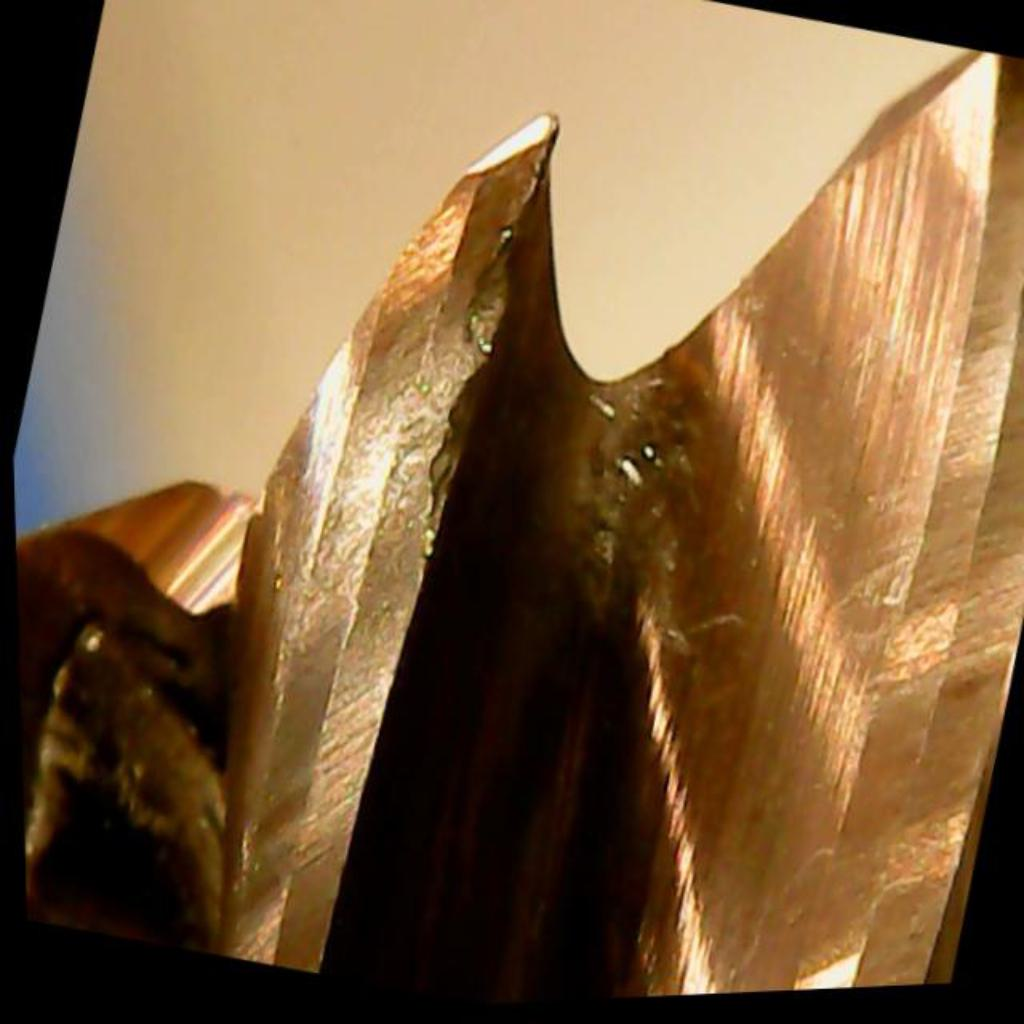Tool-wear-class-1: (268, 41, 611, 550)
